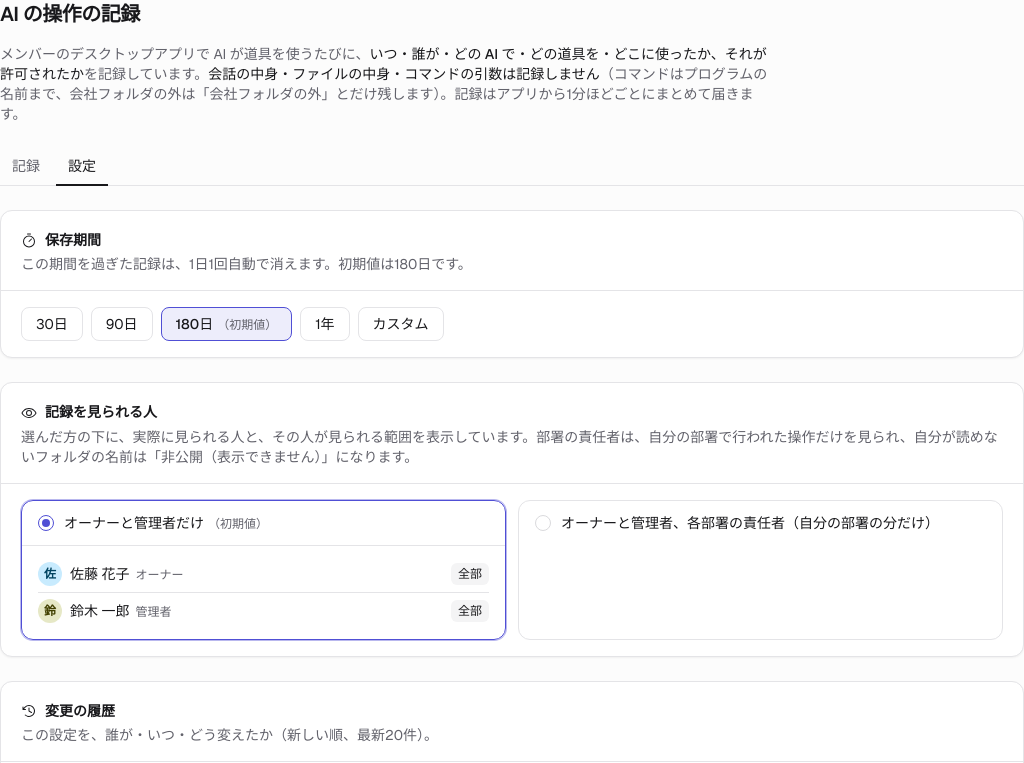
Test case: settings › the viewer cards list who would see what
expect the text "鈴木 一郎" is shown: met, box top-left (70, 602), bottom-right (130, 620)
expect the text "全部" is shown 2 times: met, box top-left (451, 562), bottom-right (489, 584); top-left (451, 600), bottom-right (489, 622)
Hover over the radio button labelled "オーナーと管理者、各部署の責任者（自分の部署の分だけ）": x=760, y=522 top-left (519, 500), bottom-right (1002, 544)
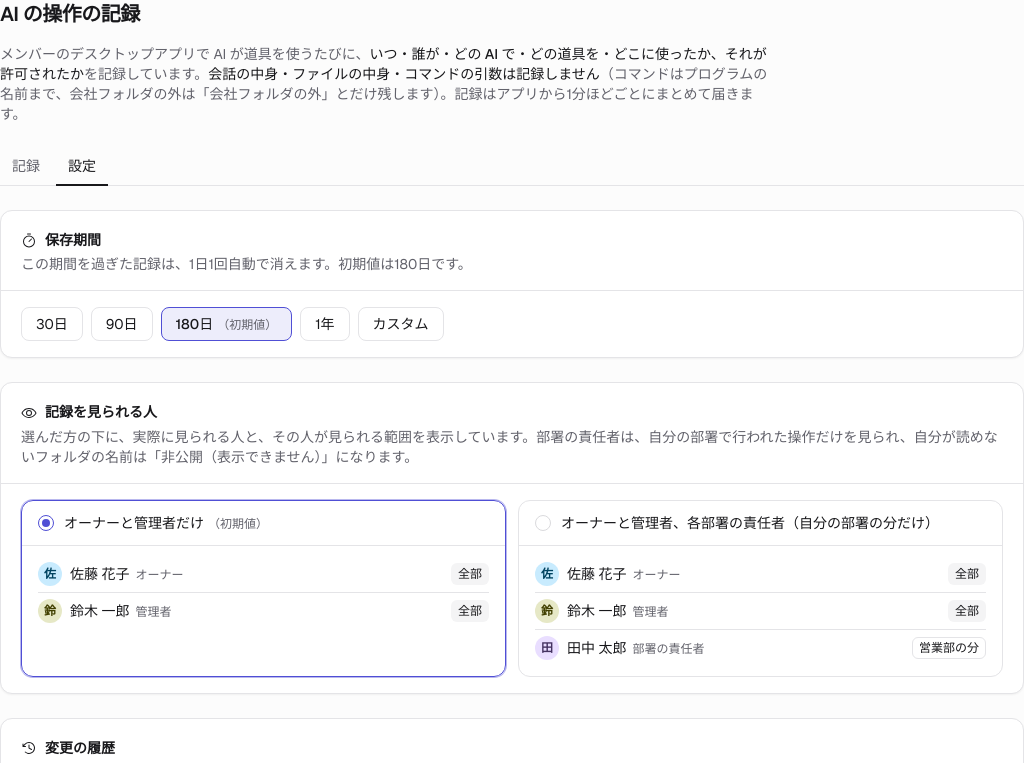
expect the text "営業部の分" is shown: met, box top-left (912, 636), bottom-right (986, 658)
expect the text "田中 太郎" is shown: met, box top-left (567, 638), bottom-right (626, 656)
